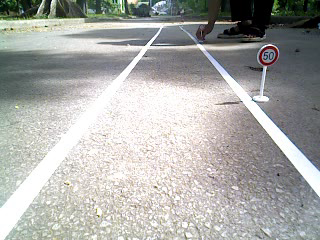limit 50: (257, 43, 281, 69)
